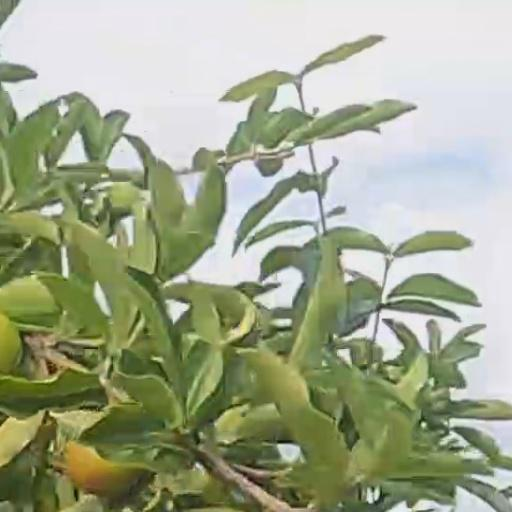acerola_vermelha: (66, 445, 138, 491)
